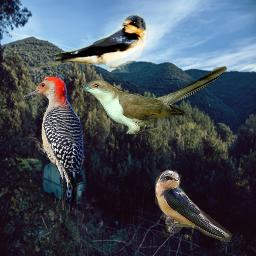Cuckoo: (77, 65, 227, 134)
Swallow: (34, 14, 148, 73), (155, 167, 233, 242)
Woodpecker: (23, 75, 84, 210)
